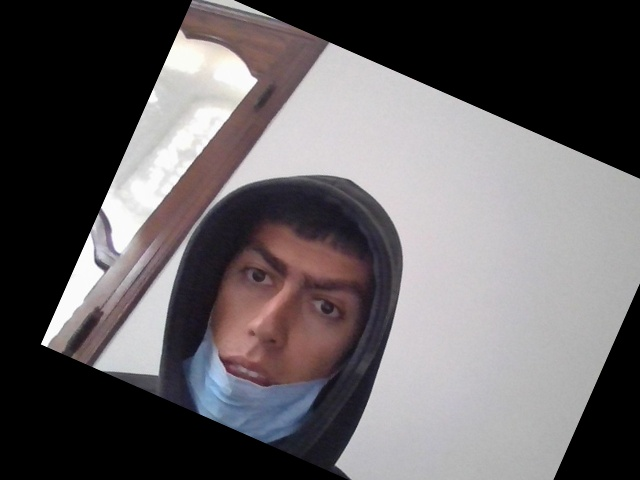mask_weared_incorrect: (184, 210, 383, 453)
